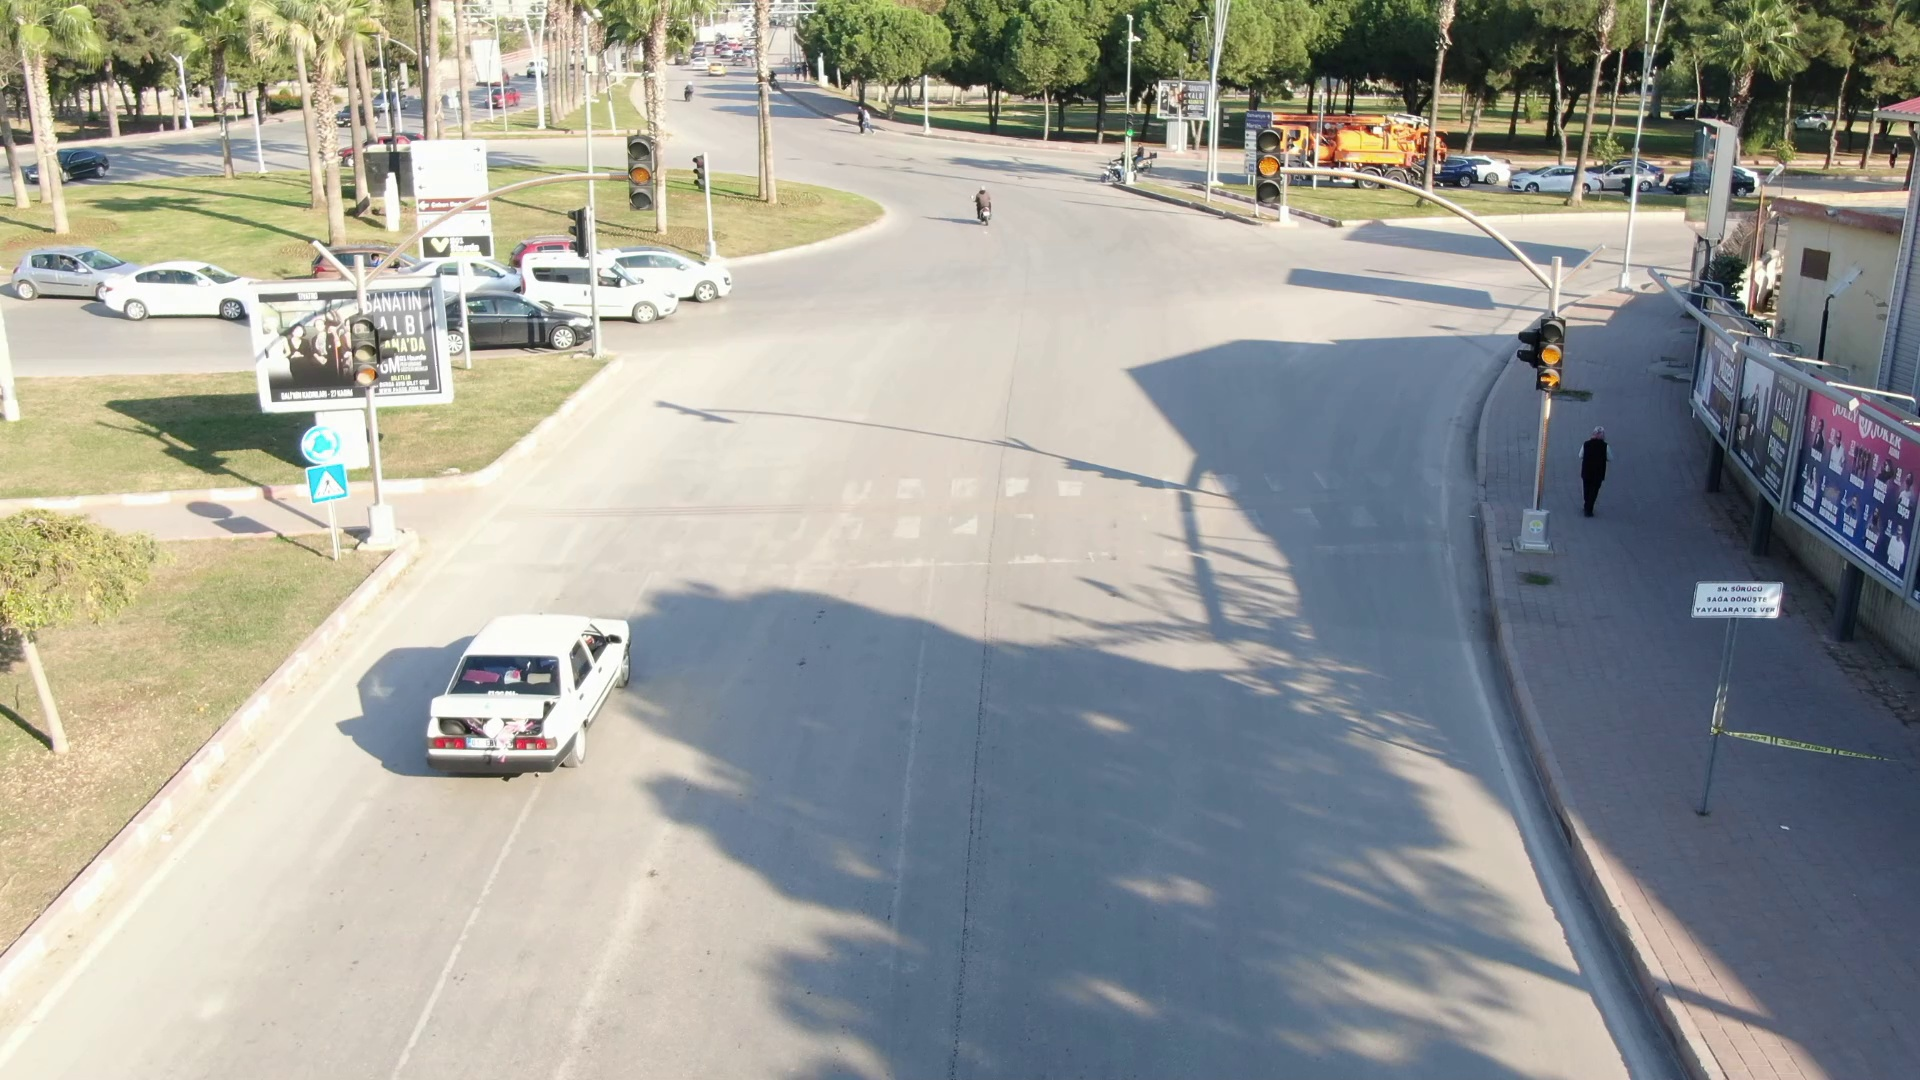car: (417, 590, 639, 792), (521, 245, 672, 327), (439, 284, 596, 351), (100, 253, 253, 319), (1, 240, 153, 296), (619, 239, 739, 298)
person: (1574, 425, 1621, 517), (963, 184, 1008, 235)
